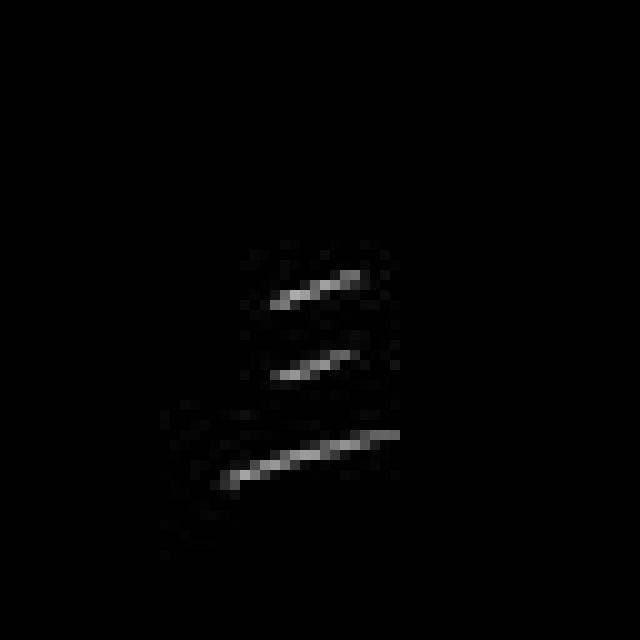3 -three-: (212, 255, 410, 510)
